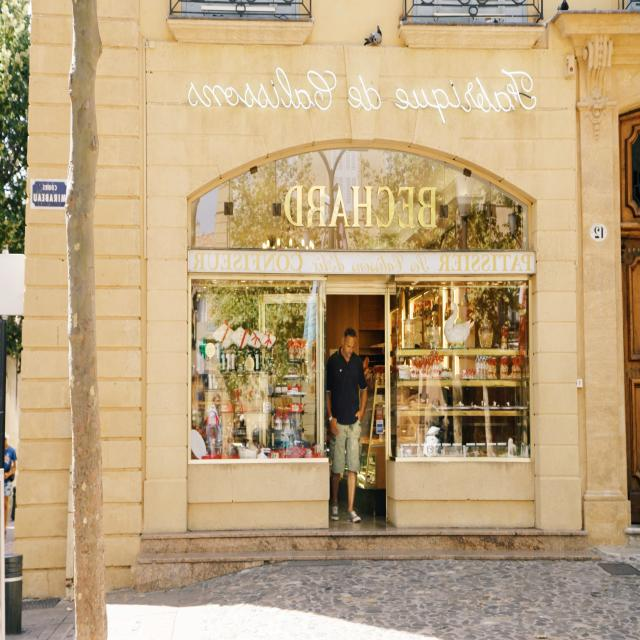adult: (324, 326, 369, 528)
